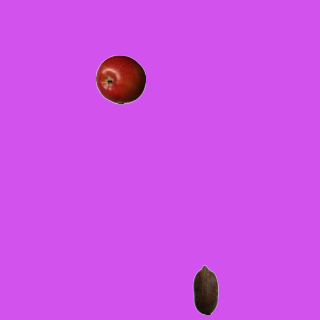Apple Braeburn: (95, 54, 145, 104)
Nut Pecan: (180, 264, 230, 314)
